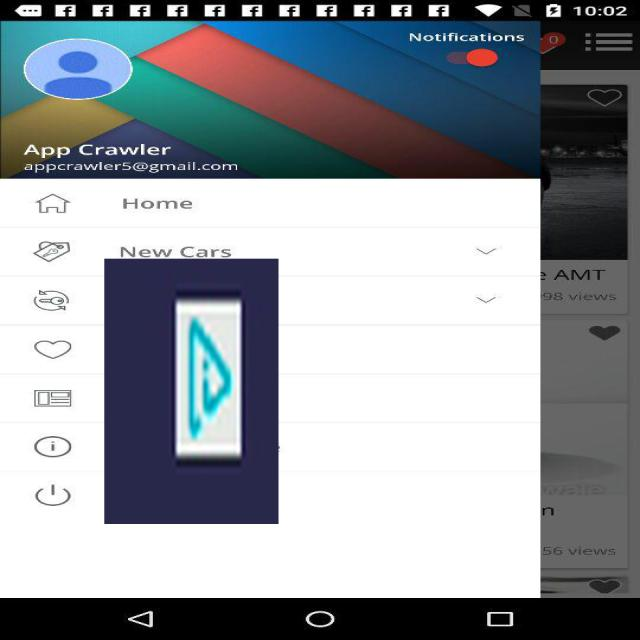sneaking: (104, 259, 278, 524)
